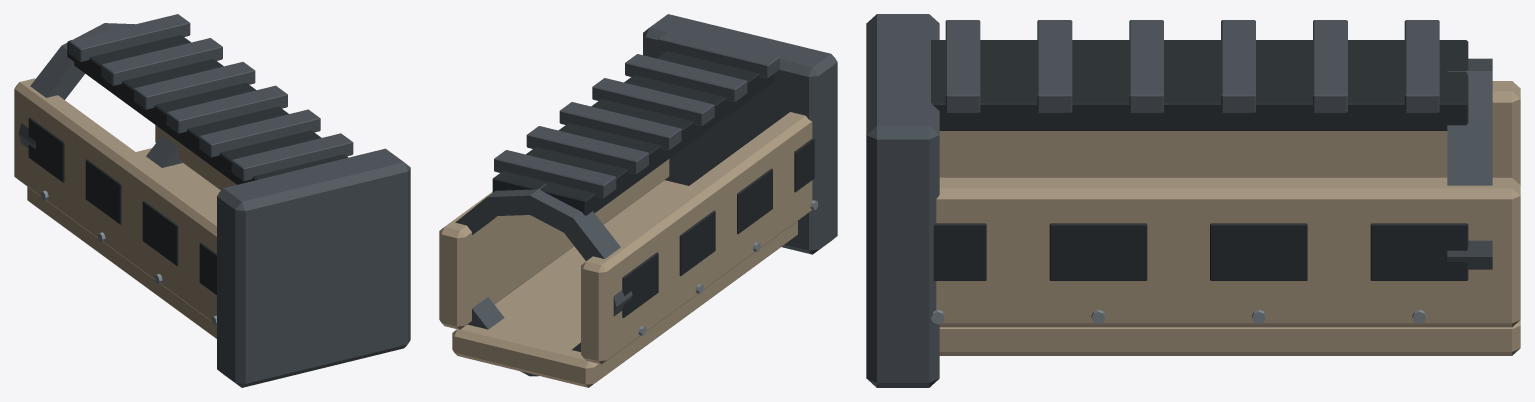
File: att_handguard_lynx45.glb
3 views of the same model, side by side, from view 1: azimuth 30°, elevation 25°; view 2: azimuth 150°, elevation 25°; view 3: azimuth 270°, elevation 25° (orthographic). The views are drawn at different scales.
Parts seen in each view (by area): view 1: Geometry_att_handguard_lynx45; view 2: Geometry_att_handguard_lynx45; view 3: Geometry_att_handguard_lynx45.
Part boxes in pixels (bbox=[...]): Geometry_att_handguard_lynx45: bbox=[14, 14, 410, 387]; Geometry_att_handguard_lynx45: bbox=[439, 14, 837, 387]; Geometry_att_handguard_lynx45: bbox=[866, 14, 1520, 387].
Size of the model in its own units: 0.0817 by 0.087 by 0.1875.
